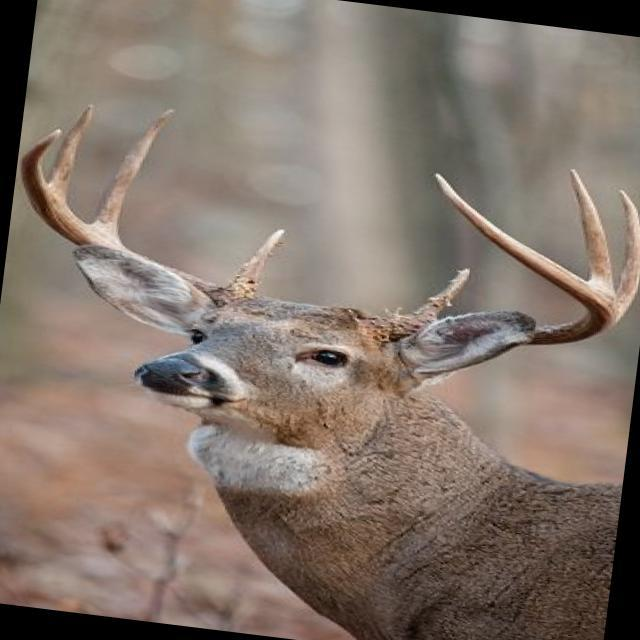L-G1: (407, 265, 472, 319)
L-G2: (614, 188, 640, 307)
L-G3: (567, 167, 615, 292)
L-G4: (429, 171, 586, 297)
R-G1: (227, 227, 286, 294)
R-G2: (86, 108, 175, 245)
R-G3: (46, 101, 95, 200)
R-G4: (19, 126, 64, 188)
